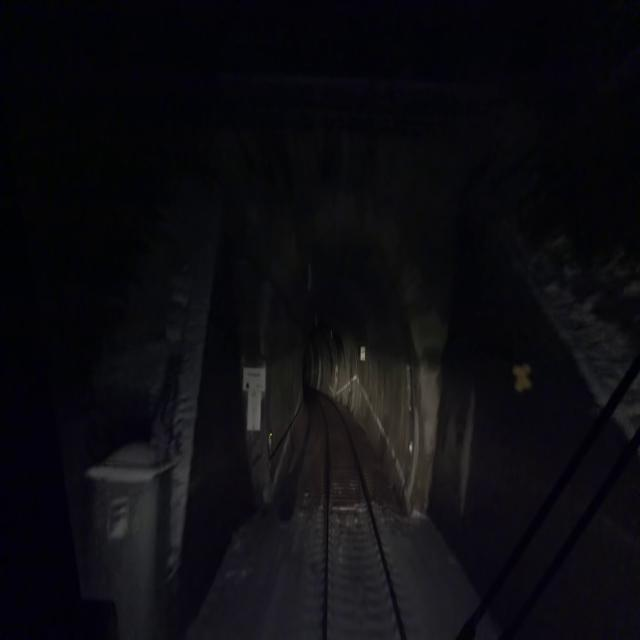rail-track: (320, 398, 400, 639)
